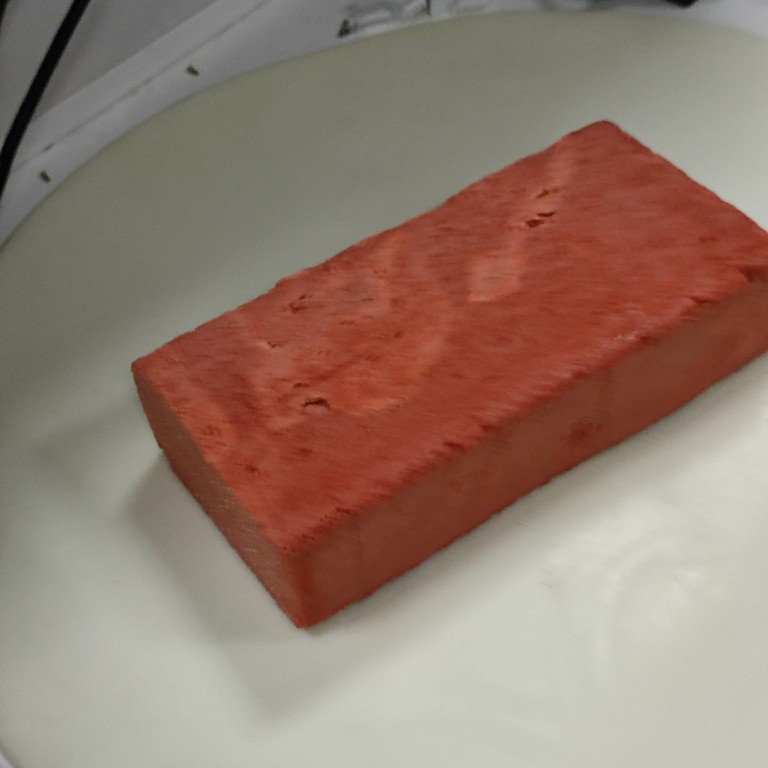brick: (126, 115, 768, 637)
